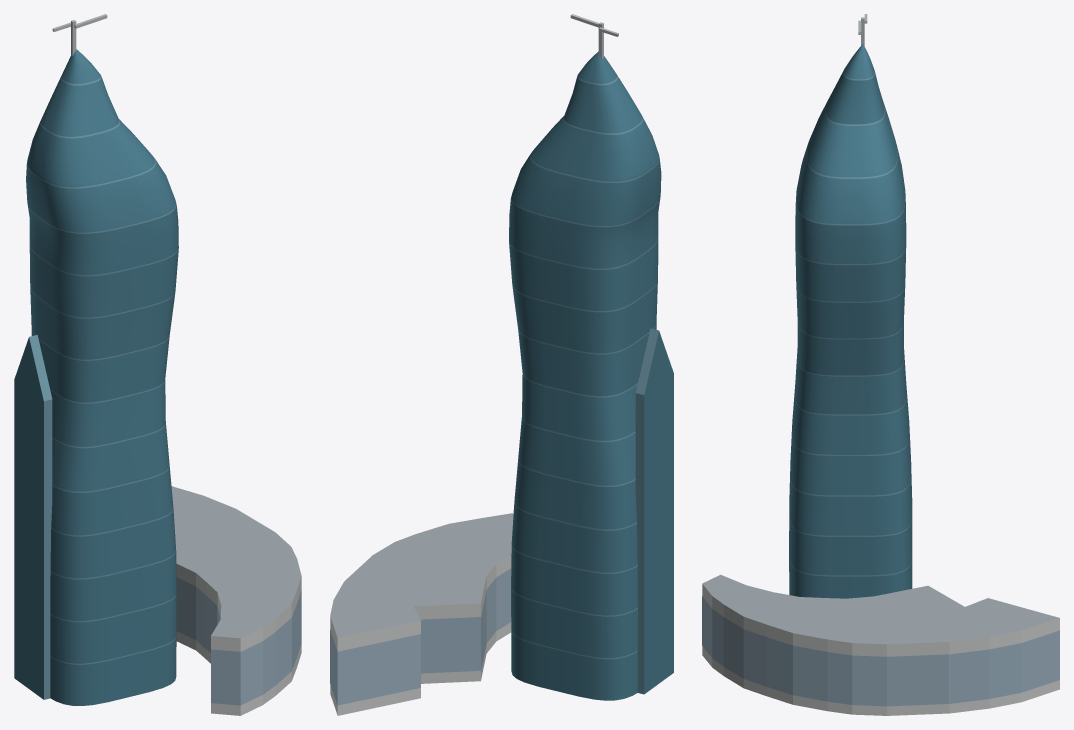
The model's file is baku-socar-tower.glb.
The picture shows the model from 3 angles, left to right: view 1: azimuth 30°, elevation 25°; view 2: azimuth 150°, elevation 25°; view 3: azimuth 270°, elevation 25°; orthographic projection. The views are drawn at different scales.
Parts seen in each view (by area): view 1: SOCAR Tower; view 2: SOCAR Tower; view 3: SOCAR Tower.
Part boxes in pixels (left/top/right/bottom): SOCAR Tower: left=14, top=14, right=301, bottom=715; SOCAR Tower: left=330, top=14, right=673, bottom=715; SOCAR Tower: left=702, top=14, right=1059, bottom=715.
Size of the model in its own units: 93.28 by 218 by 118.
